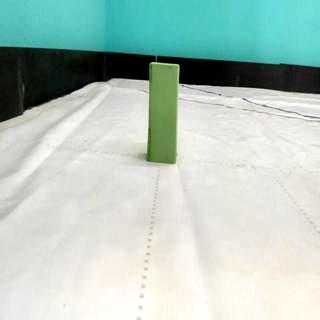greenbox: (146, 60, 180, 163)
